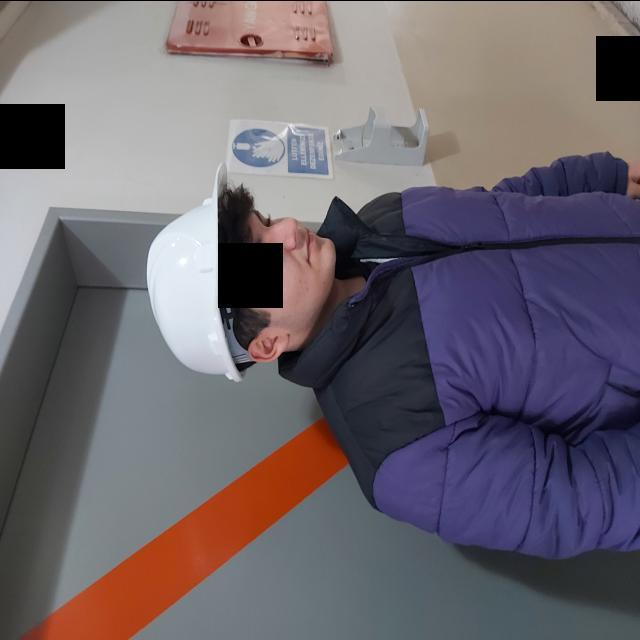white helmet: (126, 180, 250, 400)
